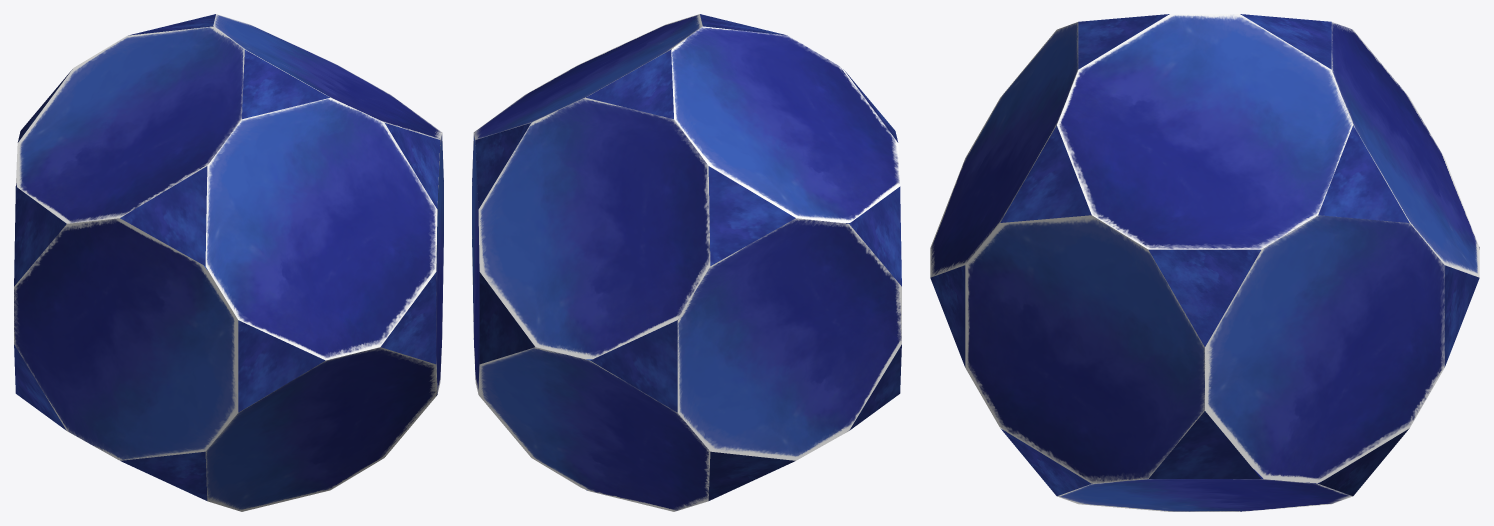
Rendered from crystal gemv2.fbx.
3 views of the same model, side by side, from view 1: azimuth 30°, elevation 25°; view 2: azimuth 150°, elevation 25°; view 3: azimuth 270°, elevation 25° (orthographic). The views are drawn at different scales.
Visible parts, largest first — view 1: Solid.001; view 2: Solid.001; view 3: Solid.001.
Boxes of the visible parts, x1=… form: Solid.001: x1=14, y1=14, x2=443, y2=511; Solid.001: x1=472, y1=14, x2=901, y2=511; Solid.001: x1=930, y1=14, x2=1479, y2=511.
Bounding box in the file's own units: 321 × 321 × 321.
1 material, 1 textured.
